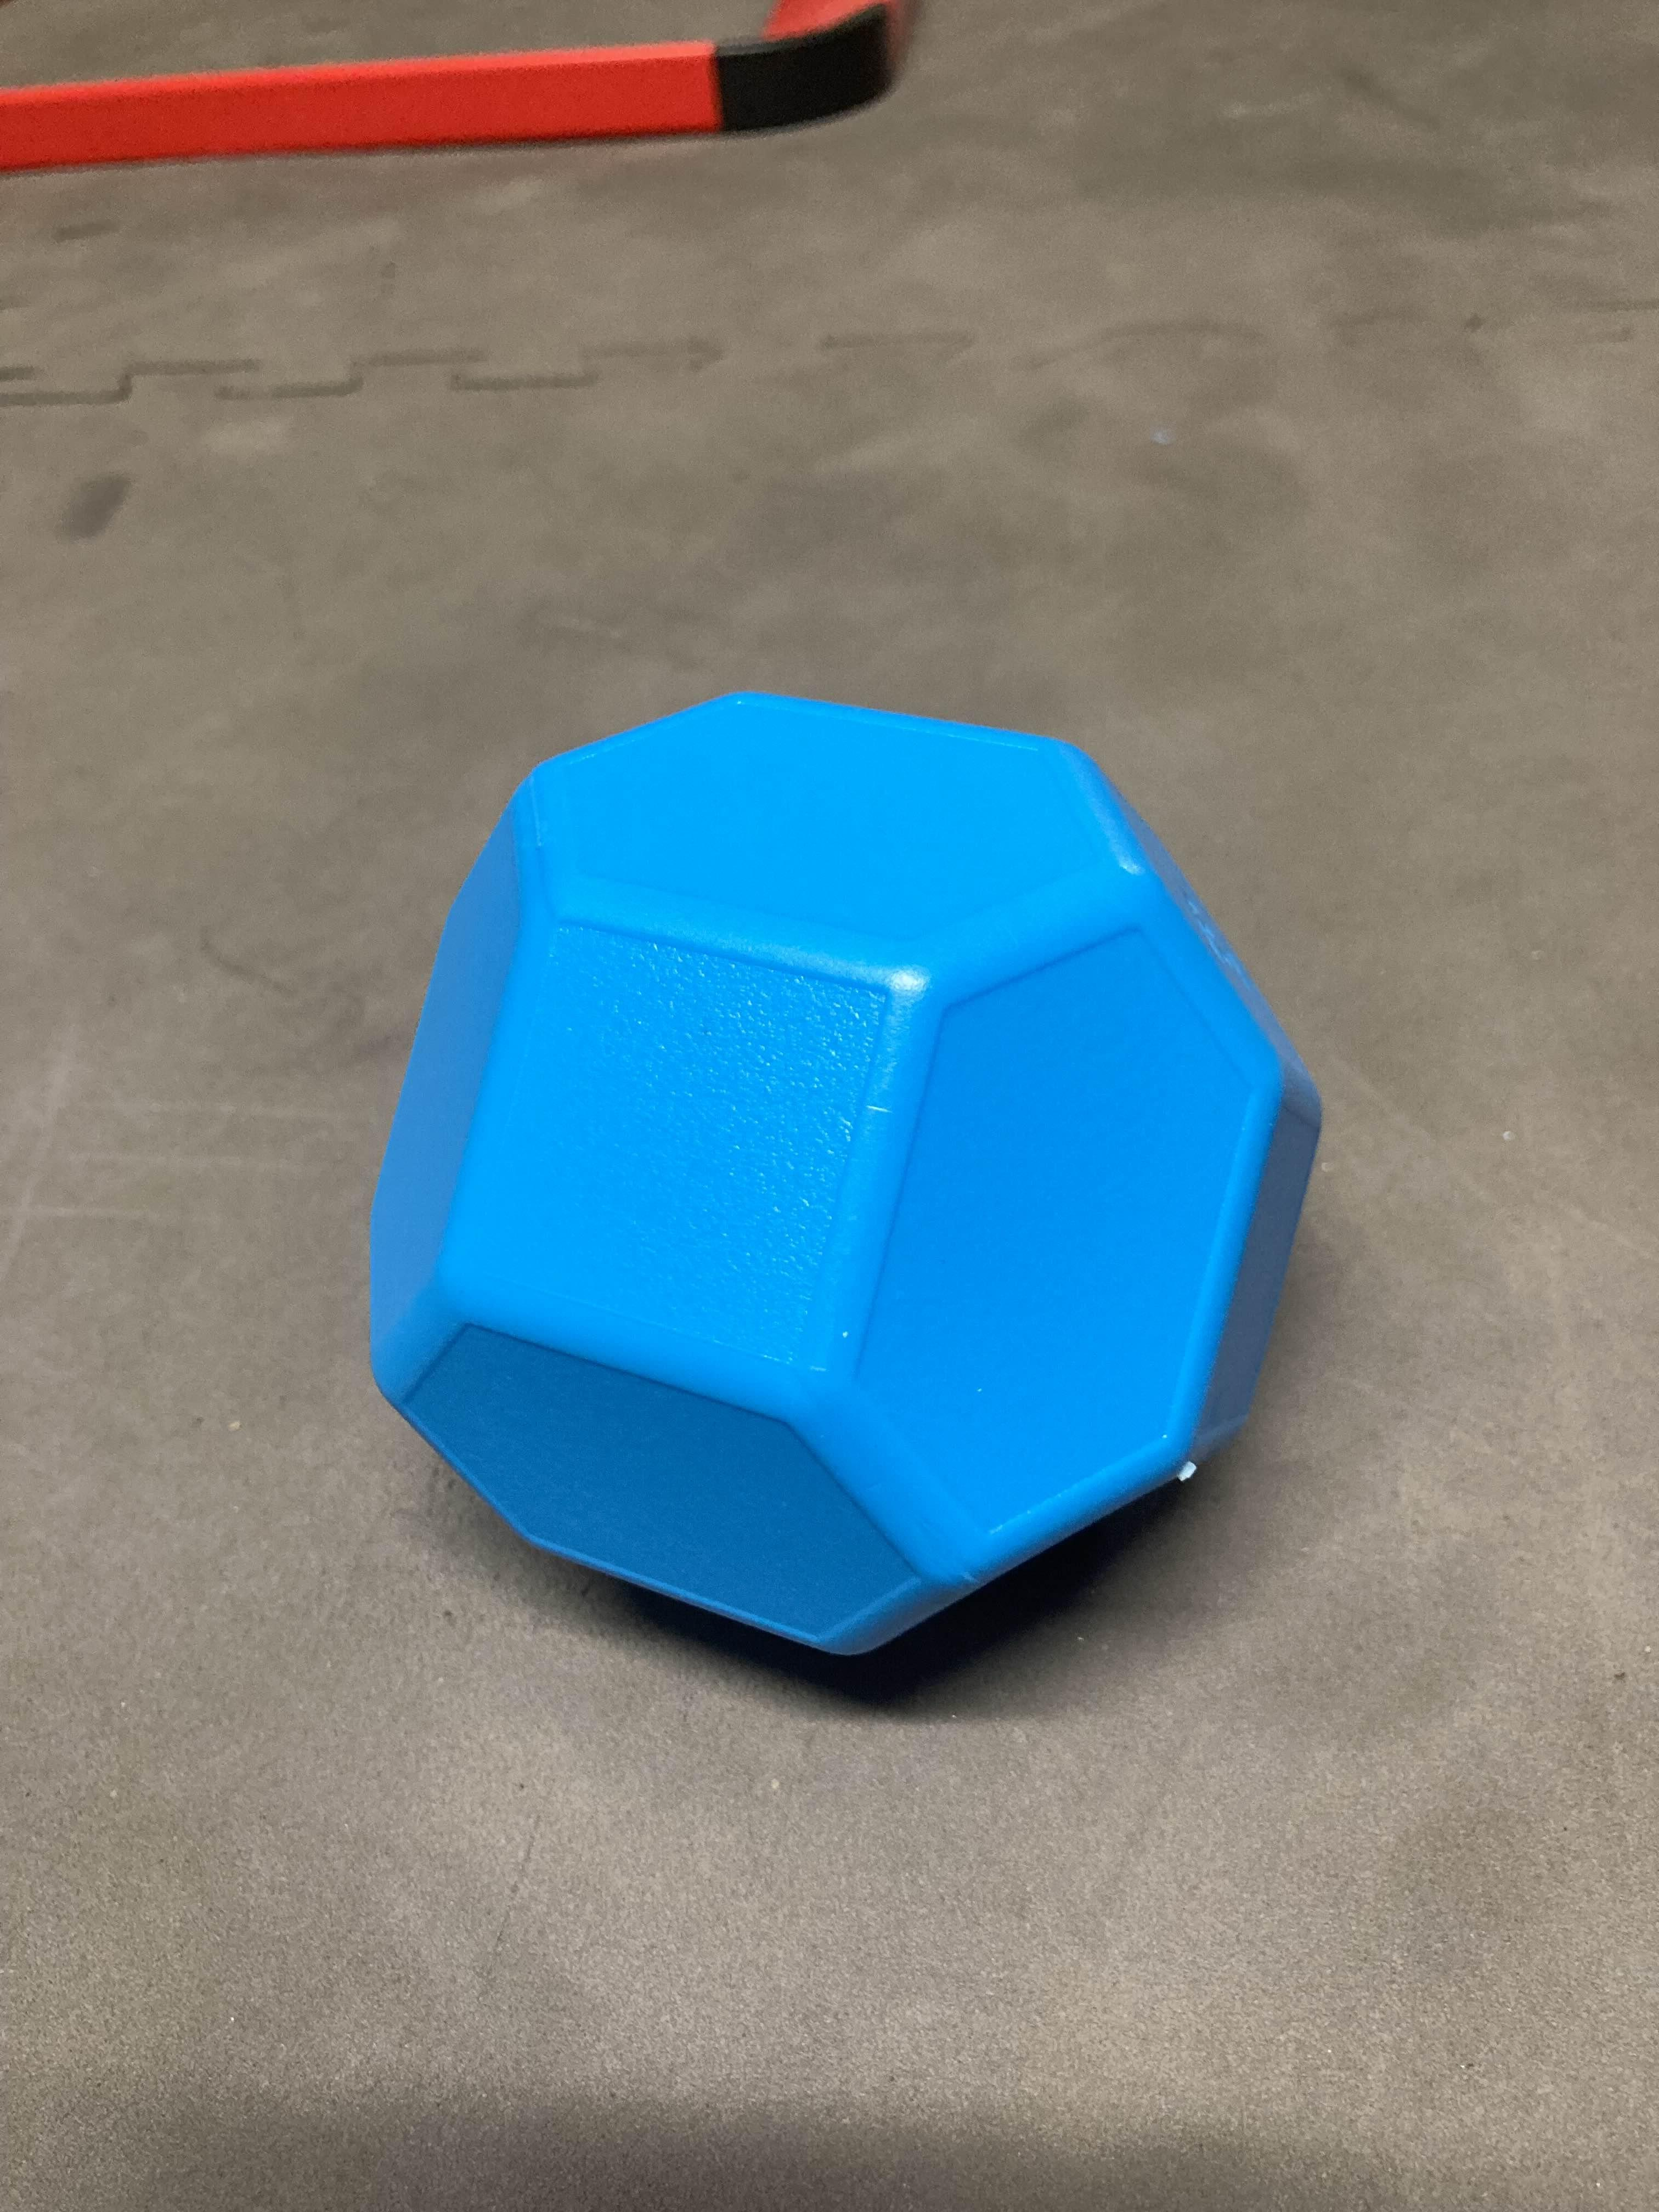Vex-Pieces-BLUE: (371, 693, 1319, 1653)
